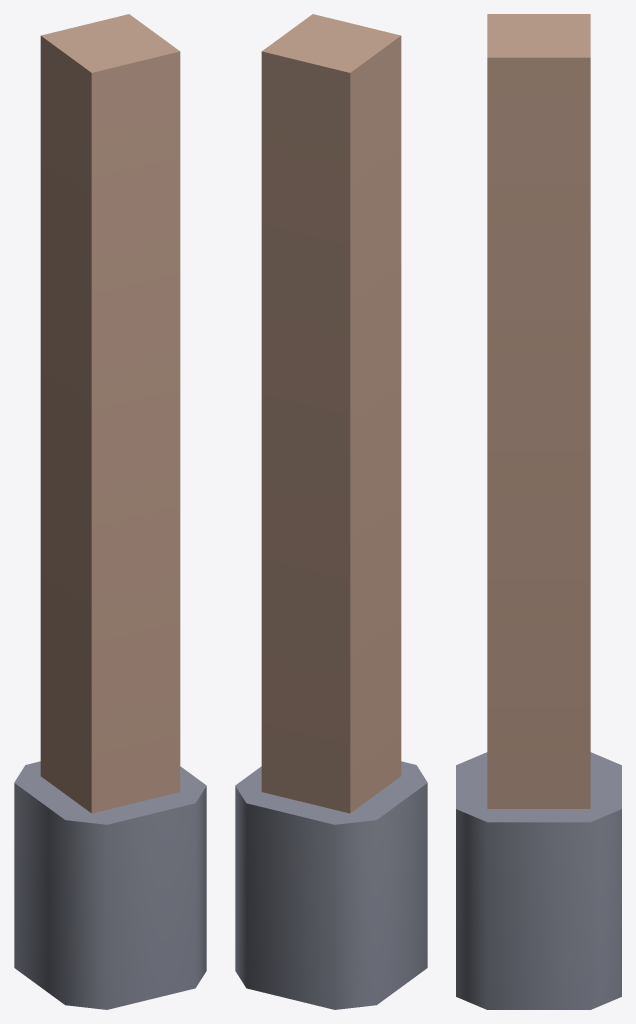
The model's file is pillar-wood.glb.
3 renders of one model, left to right at view 1: azimuth 30°, elevation 25°; view 2: azimuth 150°, elevation 25°; view 3: azimuth 270°, elevation 25°, orthographic.
Visible parts, largest first — view 1: pillar-wood; view 2: pillar-wood; view 3: pillar-wood.
Part boxes in pixels (x1=…): pillar-wood: x1=14, y1=14, x2=206, y2=1009; pillar-wood: x1=235, y1=14, x2=427, y2=1009; pillar-wood: x1=456, y1=14, x2=621, y2=1009.
Size of the model in its own units: 0.16 by 1 by 0.16.
